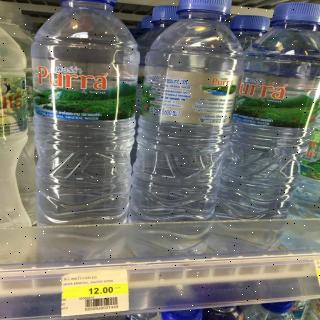Plastic-bottle: (24, 1, 137, 231), (134, 1, 246, 224), (211, 1, 320, 221)
